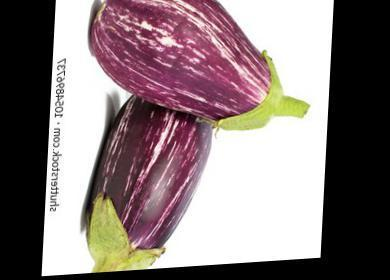eggplant: (81, 0, 305, 144), (74, 92, 226, 274)
